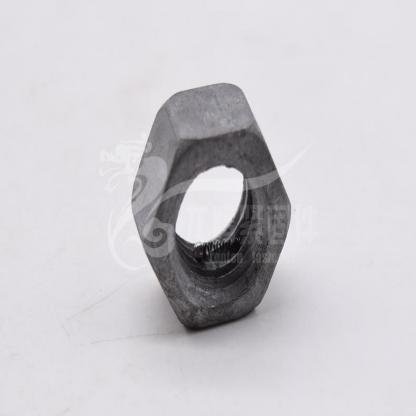FOD: (130, 78, 296, 338)
